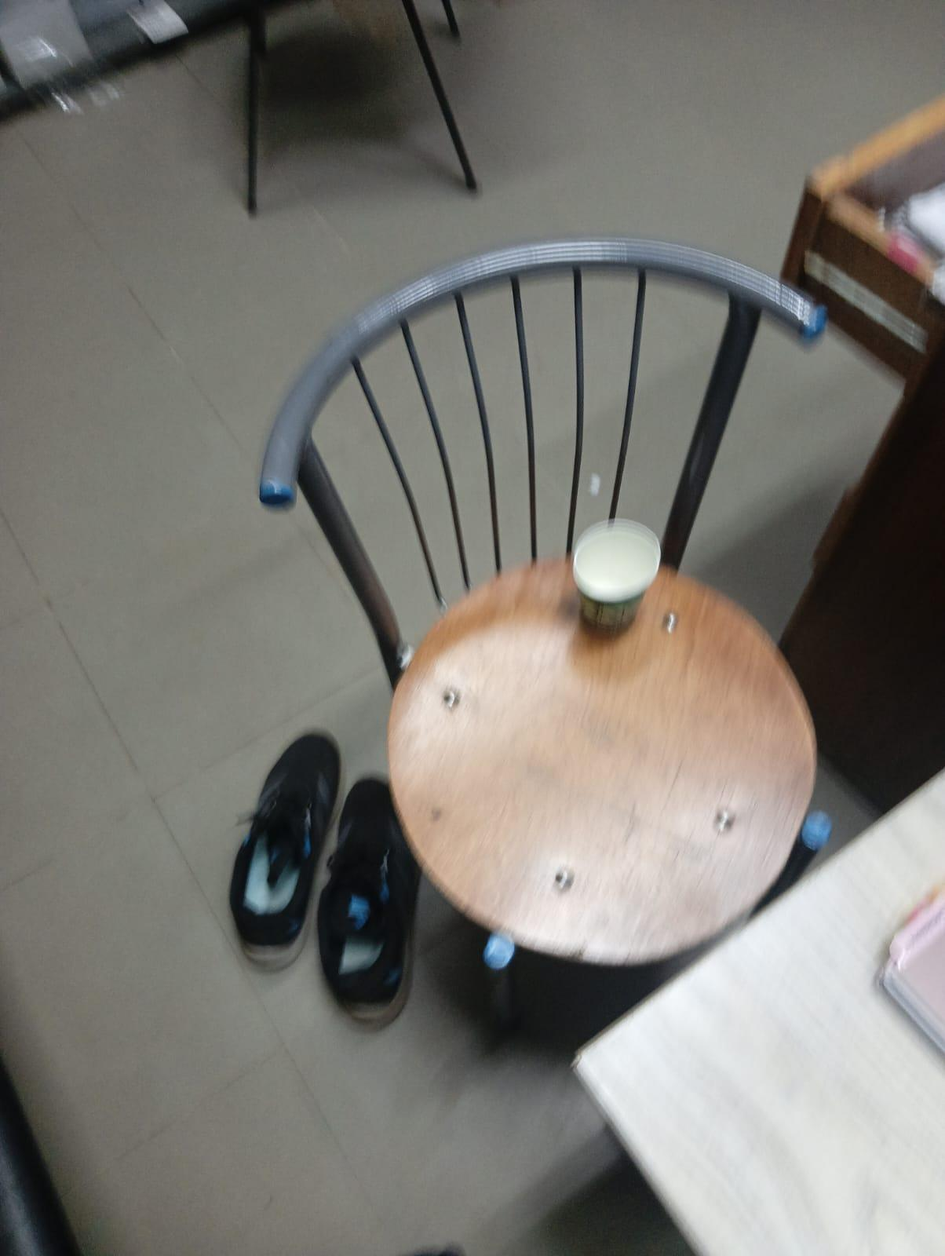cup: (573, 520, 660, 631)
